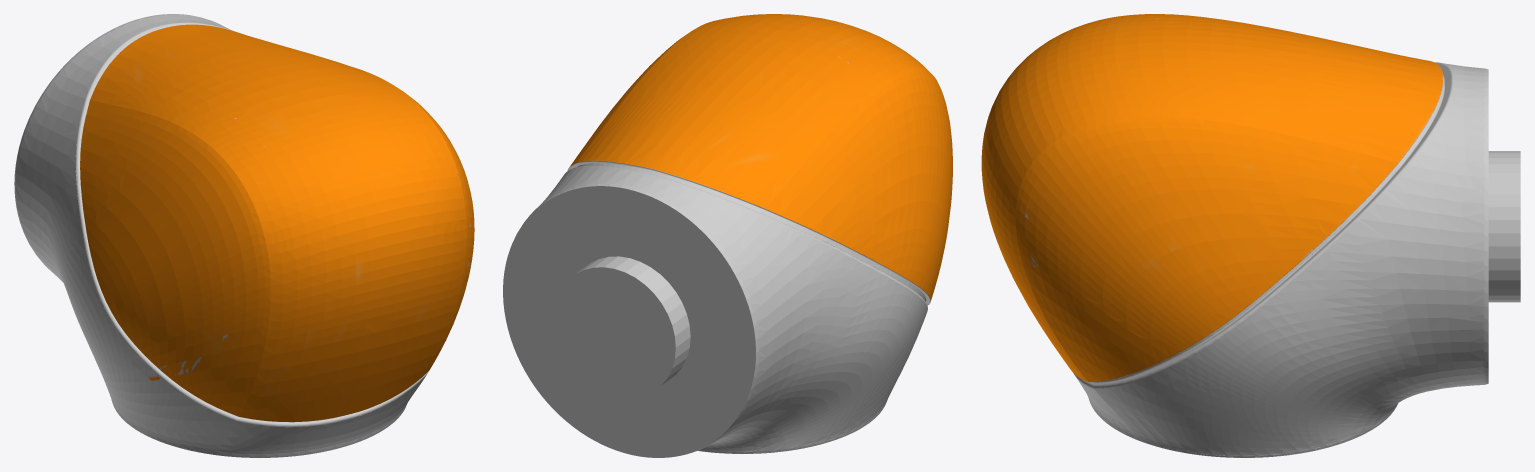
The picture shows the model from 3 angles, left to right: view 1: azimuth 30°, elevation 25°; view 2: azimuth 150°, elevation 25°; view 3: azimuth 270°, elevation 25°; orthographic projection. The views are drawn at different scales.
Parts seen in each view (by area): view 1: Link 6; view 2: Link 6; view 3: Link 6.
Part boxes in pixels (x1,y1,x2,y2): Link 6: (14, 14, 474, 457); Link 6: (503, 14, 952, 457); Link 6: (981, 14, 1520, 457).
Bounding box in the file's own units: 0.1323 × 0.1774 × 0.1374.
1 material, 1 textured.
